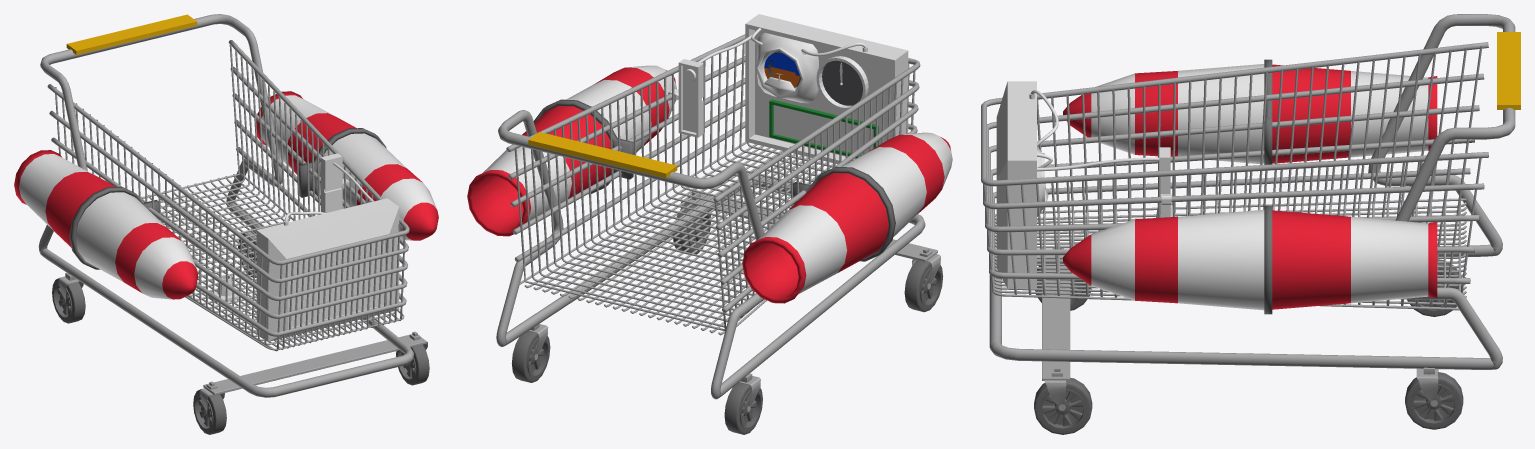
The model's file is wozek4.fbx.
3 views of the same model, side by side, from view 1: azimuth 30°, elevation 25°; view 2: azimuth 150°, elevation 25°; view 3: azimuth 270°, elevation 25° (orthographic). The views are drawn at different scales.
Visible parts, largest first — view 1: Booster.002, Poziome, poprzeczne, Cube, Frama, Booster, pion, Podpora, Osłona, MiejsceNaPrzyciski, Koło SW, Koło NW (+3 smaller); view 2: Poziome, Booster.002, Frama, Booster, poprzeczne, Cube, pion, Wyswietlacz, Cube.002, Osłona, Circle.002, MiejsceNaPrzyciski (+8 smaller); view 3: Booster, poprzeczne, Booster.002, Poziome, Frama, Cube, pion, Podpora, Koło NE, Koło SE, Osłona, Booster.001 (+6 smaller).
Part boxes in pixels (bbox=[...]): Booster.002: bbox=[14, 150, 197, 299]; Poziome: bbox=[55, 44, 400, 344]; poprzeczne: bbox=[47, 40, 409, 336]; Cube: bbox=[256, 198, 399, 341]; Frama: bbox=[38, 14, 413, 397]; Booster: bbox=[256, 91, 438, 240]; pion: bbox=[141, 172, 405, 351]; Podpora: bbox=[203, 334, 426, 395]; Osłona: bbox=[66, 14, 197, 54]; MiejsceNaPrzyciski: bbox=[321, 153, 349, 212]; Koło SW: bbox=[52, 278, 85, 323]; Koło NW: bbox=[193, 389, 226, 434]; Poziome: bbox=[514, 43, 909, 330]; Booster.002: bbox=[742, 132, 952, 303]; Frama: bbox=[496, 110, 925, 399]; Booster: bbox=[467, 65, 676, 236]; poprzeczne: bbox=[506, 34, 920, 312]; Cube: bbox=[745, 14, 908, 164]; pion: bbox=[519, 63, 915, 335]; Wyswietlacz: bbox=[769, 99, 878, 158]; Cube.002: bbox=[755, 33, 818, 103]; Osłona: bbox=[528, 132, 677, 178]; Circle.002: bbox=[816, 56, 868, 110]; MiejsceNaPrzyciski: bbox=[668, 59, 703, 137]; Booster: bbox=[1063, 209, 1437, 310]; poprzeczne: bbox=[981, 42, 1488, 283]; Booster.002: bbox=[1063, 64, 1437, 164]; Poziome: bbox=[1005, 46, 1482, 307]; Frama: bbox=[989, 14, 1515, 369]; Cube: bbox=[996, 81, 1036, 288]; pion: bbox=[983, 184, 1466, 310]; Podpora: bbox=[1042, 266, 1070, 380]; Koło NE: bbox=[1034, 377, 1092, 434]; Koło SE: bbox=[1405, 372, 1463, 429]; Osłona: bbox=[1497, 32, 1520, 109]; Booster.001: bbox=[1264, 205, 1272, 314].
Size of the model in its own units: 218 by 160 by 260.
